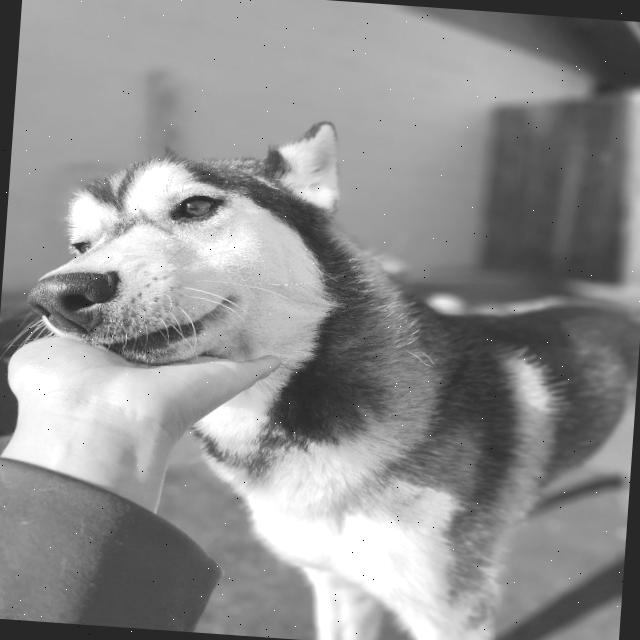siberian_husky_dog: (7, 94, 399, 404)
